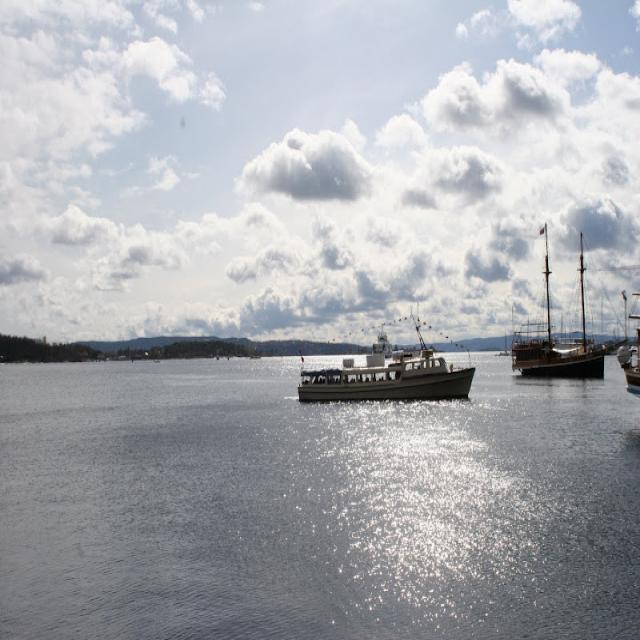fishing boat: (518, 314, 619, 392)
passenger ship: (292, 304, 478, 407)
